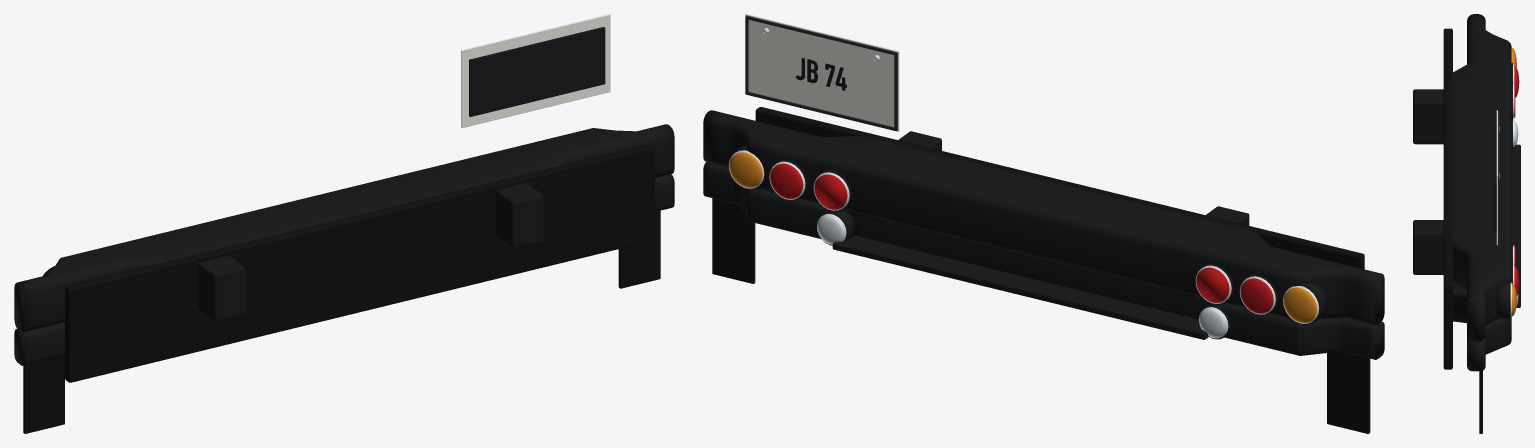
File: rearBumper_apio_tactical_rear64.glb
3 renders of one model, left to right at view 1: azimuth 30°, elevation 25°; view 2: azimuth 150°, elevation 25°; view 3: azimuth 270°, elevation 25°, orthographic. The views are drawn at different scales.
Visible parts, largest first — view 1: valance.033, upper.005, plateBracket.005, plate.040, flap-1.001, mount1.033, mount-1.033, flap1.001, lower-1.001, lower1.001; view 2: upper.005, plate.040, lowerMid.001, stepLip.001, lower-1.001, valance.033, lower1.001, flap-1.001, flap1.001, lampLens-12.001, lampLens12.001, lampDome-11.001 (+5 smaller); view 3: upper.005, valance.033, lower1.001, mount-1.033, mount1.033, stepLip.001, lampCan10.001, plateBracket.005, plate.040, flap1.001, plateRim38_3, plateRim38_0.
Boxes of the visible parts, x1=… form: valance.033: x1=65, y1=144, x2=654, y2=382; upper.005: x1=14, y1=124, x2=674, y2=332; plateBracket.005: x1=469, y1=27, x2=605, y2=116; plate.040: x1=461, y1=14, x2=610, y2=127; flap-1.001: x1=23, y1=356, x2=64, y2=433; mount1.033: x1=495, y1=183, x2=543, y2=248; mount-1.033: x1=198, y1=255, x2=245, y2=321; flap1.001: x1=618, y1=210, x2=660, y2=288; lower-1.001: x1=14, y1=322, x2=64, y2=365; lower1.001: x1=655, y1=174, x2=674, y2=211; upper.005: x1=703, y1=110, x2=1384, y2=324; plate.040: x1=745, y1=14, x2=899, y2=131; lowerMid.001: x1=848, y1=211, x2=1209, y2=318; stepLip.001: x1=832, y1=235, x2=1208, y2=339; lower-1.001: x1=1211, y1=303, x2=1384, y2=359; valance.033: x1=755, y1=107, x2=1364, y2=269; lower1.001: x1=703, y1=162, x2=841, y2=238; flap-1.001: x1=1327, y1=352, x2=1370, y2=433; flap1.001: x1=712, y1=198, x2=755, y2=283; lampLens-12.001: x1=1196, y1=267, x2=1229, y2=302; lampLens12.001: x1=814, y1=174, x2=847, y2=209; lampDome-11.001: x1=1241, y1=278, x2=1273, y2=313; upper.005: x1=1452, y1=14, x2=1511, y2=341; valance.033: x1=1443, y1=28, x2=1452, y2=369; lower1.001: x1=1453, y1=283, x2=1511, y2=371; mount-1.033: x1=1413, y1=89, x2=1443, y2=144; mount1.033: x1=1413, y1=220, x2=1443, y2=274; stepLip.001: x1=1511, y1=144, x2=1520, y2=307; lampCan10.001: x1=1496, y1=282, x2=1510, y2=319; plateBracket.005: x1=1493, y1=122, x2=1496, y2=232; plate.040: x1=1496, y1=110, x2=1497, y2=245; flap1.001: x1=1479, y1=371, x2=1482, y2=433; plateRim38_3: x1=1498, y1=176, x2=1499, y2=243; plateRim38_0: x1=1498, y1=111, x2=1499, y2=175.
Size of the model in its own units: 1.44 by 0.5675 by 0.23.
